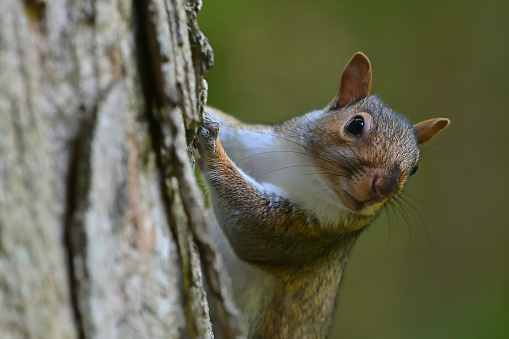squirrel: (206, 53, 452, 326)
